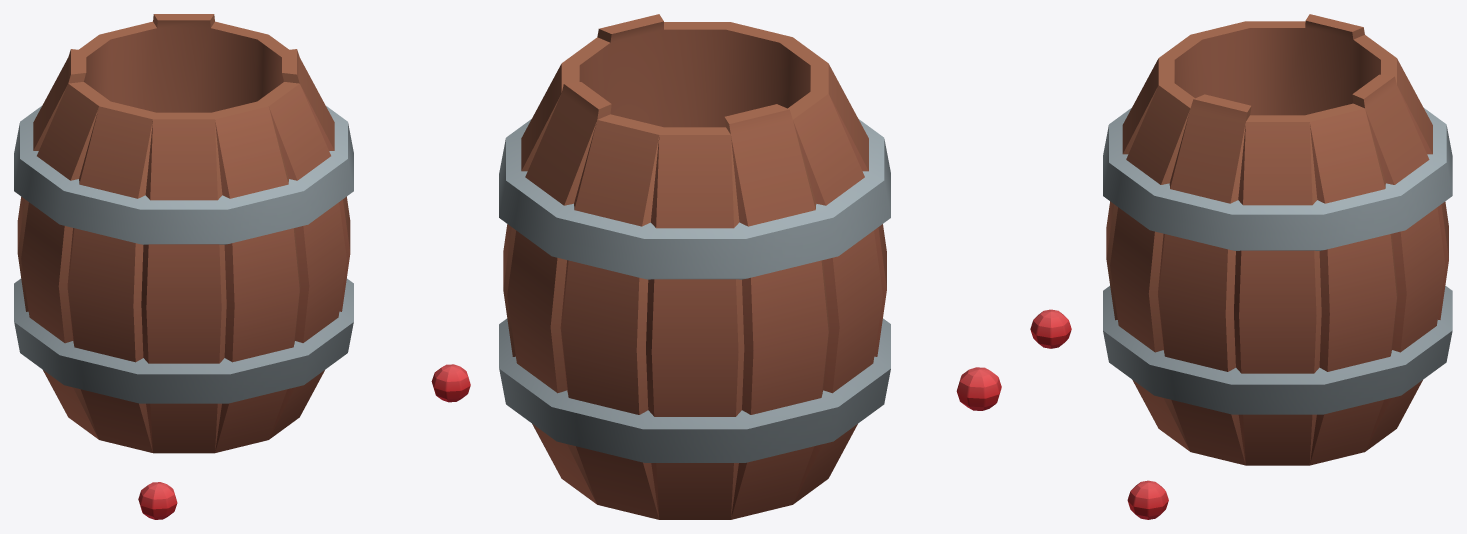
The model's file is apple_barrel_8.glb.
The picture shows the model from 3 angles, left to right: view 1: azimuth 30°, elevation 25°; view 2: azimuth 150°, elevation 25°; view 3: azimuth 270°, elevation 25°; orthographic projection. The views are drawn at different scales.
Parts seen in each view (by area): view 1: apple_barrel_8; view 2: apple_barrel_8; view 3: apple_barrel_8.
Part boxes in pixels (x1,y1,x2,y2): apple_barrel_8: (14, 14, 470, 519); apple_barrel_8: (499, 14, 1001, 519); apple_barrel_8: (1030, 14, 1452, 519).
Size of the model in its own units: 1.38 by 1.2 by 1.3.
2 materials, 2 textured.
